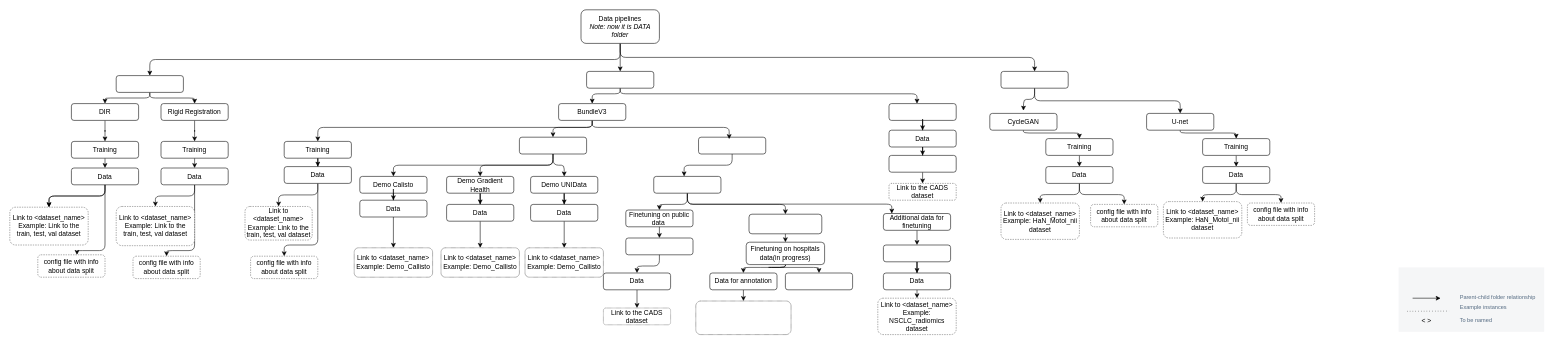
The diagram is 1554 pixels wide and 344 high, and some of its shapes have lost their labels. Each missing label, with the box of its shape:
Annotated data: (785, 272, 853, 290)
Experiments: (888, 103, 956, 120)
Finetuning: (653, 176, 721, 193)
Finetuning on CADS dataset: (625, 237, 693, 255)
Finetuning on Unnoficial data: (748, 214, 822, 234)
Image generation: (1000, 71, 1068, 88)
Improving BundleV3 model: (698, 137, 766, 154)
Legend: (1398, 267, 1544, 332)
Link to <dataset_name> Example: CONTOUR_CORRECTION_RS _preliminary_correction: (695, 300, 791, 335)
NSCLC_radiomics: (883, 244, 951, 262)
Registration: (116, 75, 183, 92)
Segmentation: (586, 71, 654, 88)
Testing Bundlev3 on demo data: (519, 137, 587, 154)
Training model on the CADS: (888, 155, 956, 172)
